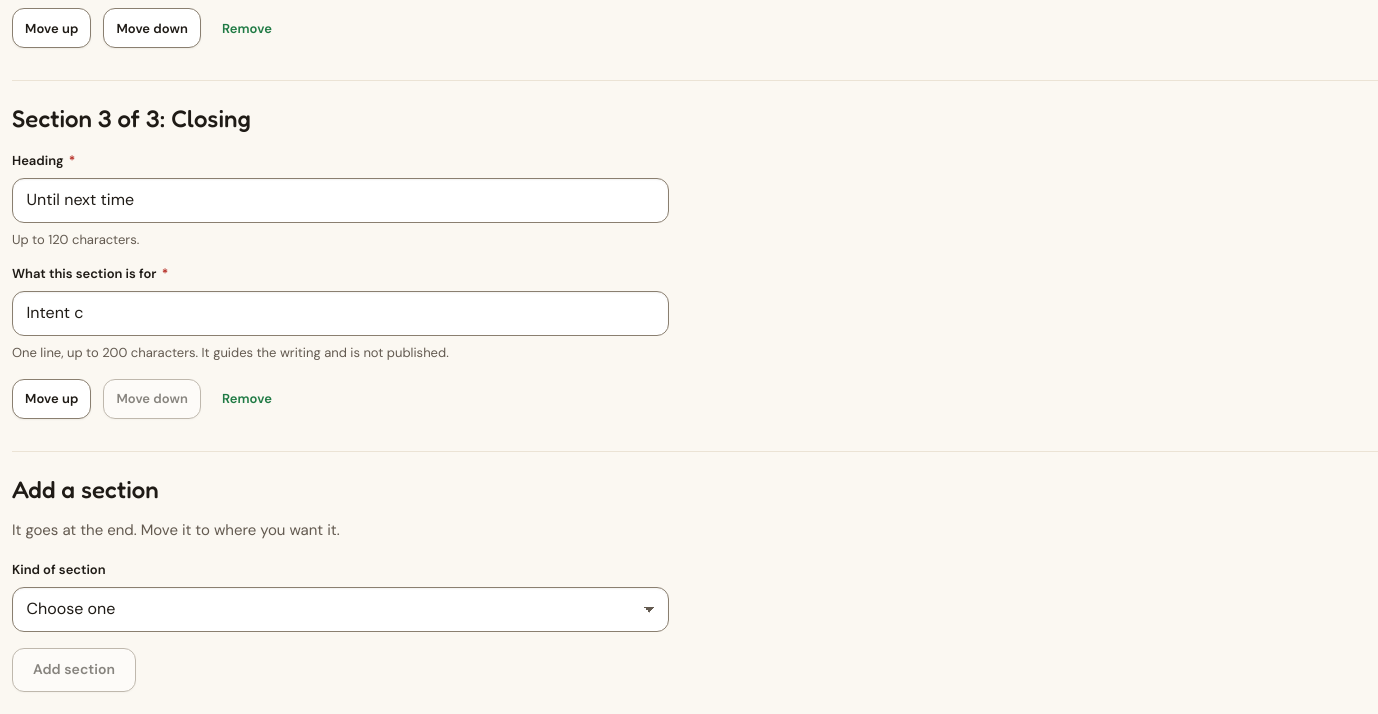
LongFormPlanReviewComponent › adds a section of a kind the plan has room for, at the end, and focuses its heading
(page scrolled)
Select "Your own section" in the dropdown labelled "Kind of section" at (340, 609), box top-left (12, 587), bottom-right (669, 632)
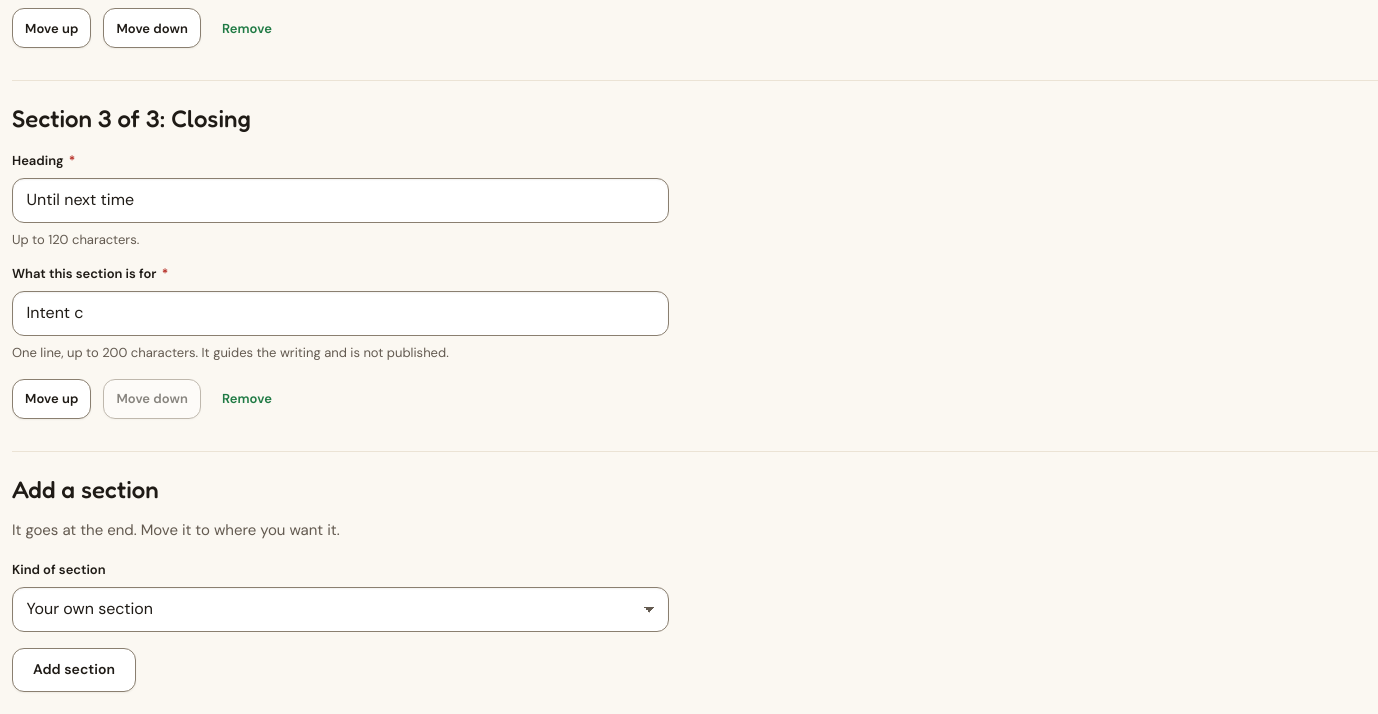
Click the button "Add section" at (74, 670), box top-left (12, 648), bottom-right (136, 692)
(page scrolled)
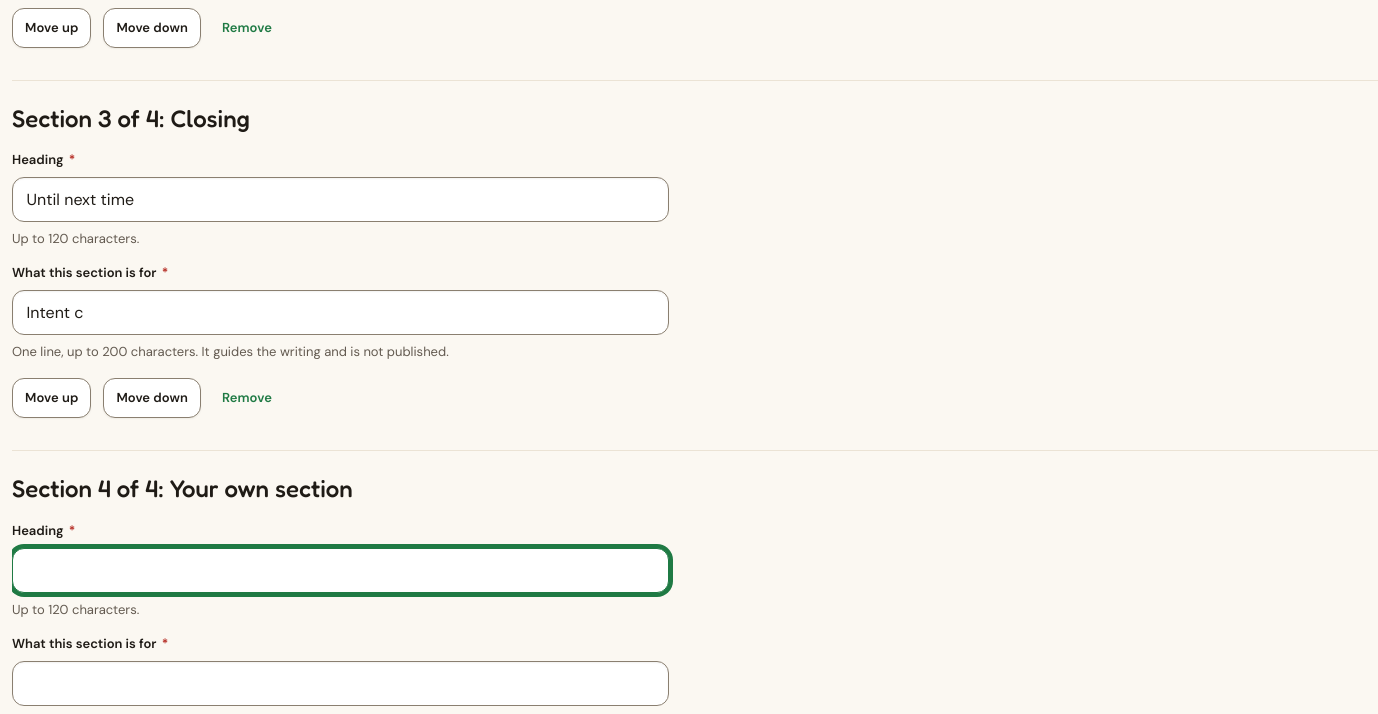
Check: the heading "Section 4 of 4: Your own section" is shown, box top-left (12, 474), bottom-right (353, 503)
